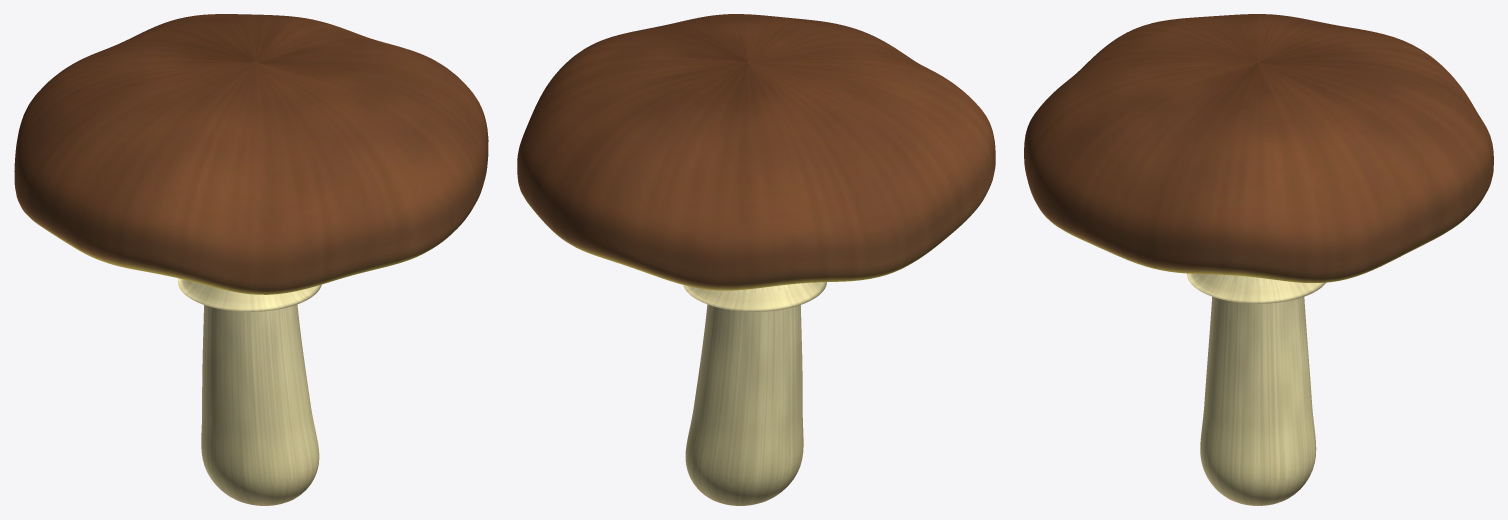
Rendered from suillus-luteus-drawn.glb.
3 renders of one model, left to right at view 1: azimuth 30°, elevation 25°; view 2: azimuth 150°, elevation 25°; view 3: azimuth 270°, elevation 25°, orthographic.
Bounding box in the file's own units: 0.786 × 0.7904 × 0.7851.
Materials: 1 (1 with a texture image).
